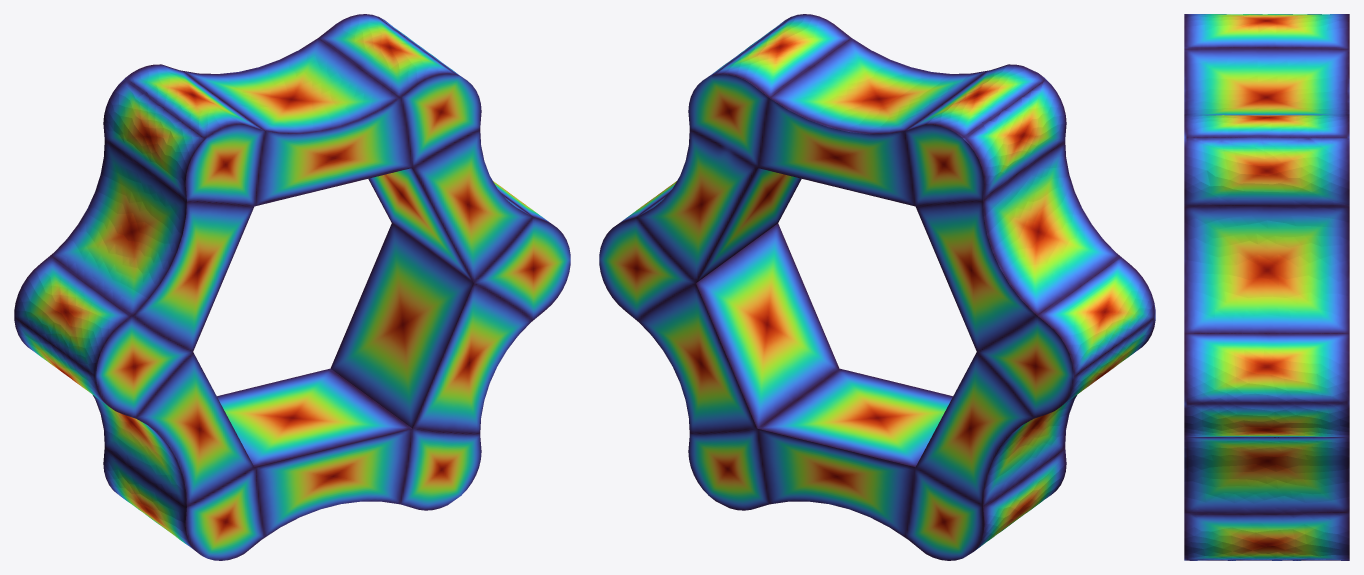
File: gen0.glb
3 renders of one model, left to right at view 1: azimuth 30°, elevation 25°; view 2: azimuth 150°, elevation 25°; view 3: azimuth 270°, elevation 25°, orthographic.
Visible parts, largest first — view 1: Node; view 2: Node; view 3: Node.
Boxes of the visible parts, x1,y1,x2,y2 form: Node: [14, 14, 570, 560]; Node: [599, 14, 1155, 560]; Node: [1184, 14, 1349, 560].
Bounding box in the file's own units: 23.98 × 20.97 × 7.2.
Materials: 1 (1 with a texture image).
